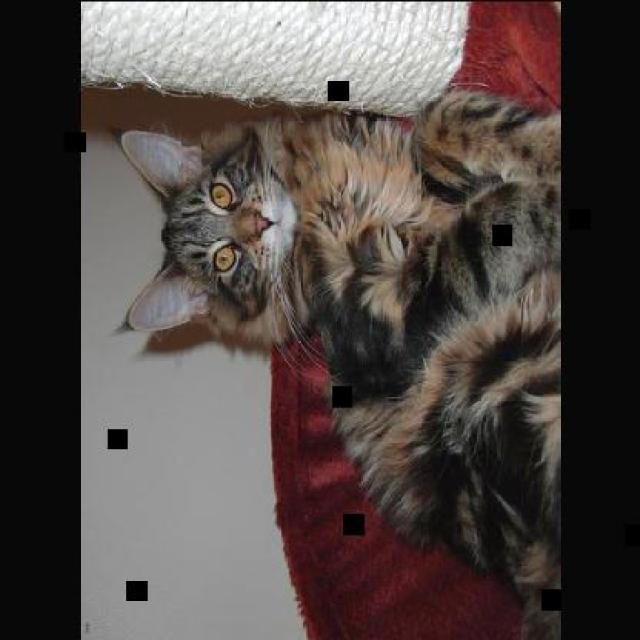unauthorized: (109, 86, 560, 639)
